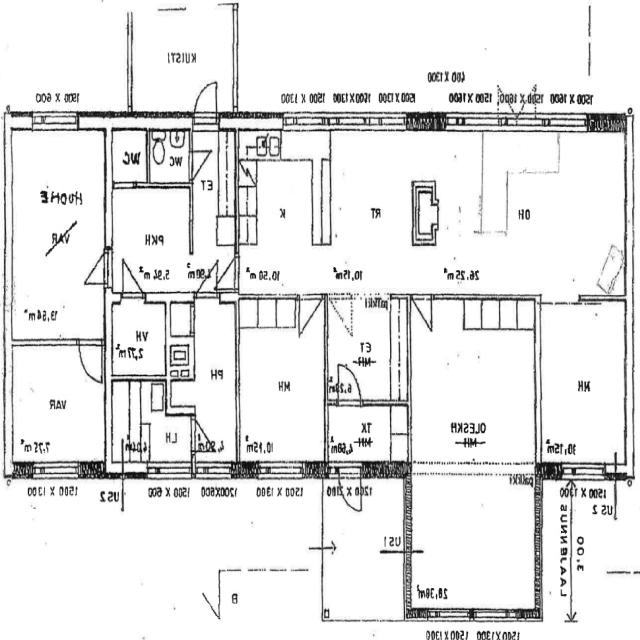door: (194, 75, 218, 131), (340, 463, 361, 513), (83, 251, 113, 284), (79, 340, 102, 382), (300, 294, 323, 336), (122, 260, 143, 303), (197, 260, 217, 303), (339, 365, 360, 405), (191, 419, 216, 450), (215, 257, 239, 289), (413, 294, 432, 330), (190, 150, 210, 179)
